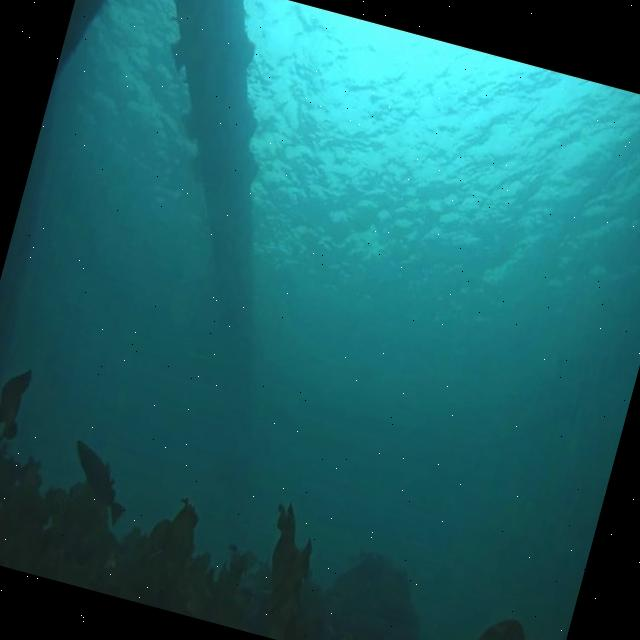fish: (58, 437, 140, 528)
